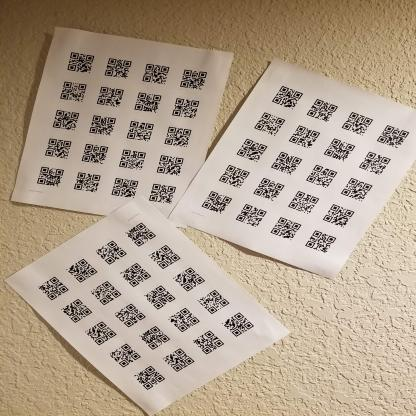qr: (65, 254, 103, 285), (196, 286, 236, 315), (124, 218, 161, 249), (89, 277, 127, 307), (189, 328, 228, 356), (377, 120, 412, 151), (233, 135, 271, 163), (172, 263, 210, 291), (322, 200, 356, 231), (96, 237, 131, 267), (119, 259, 156, 287), (269, 150, 304, 179), (221, 309, 256, 338), (134, 364, 169, 393), (148, 241, 184, 269), (337, 175, 374, 202), (107, 342, 144, 369), (288, 122, 322, 151), (114, 300, 148, 329), (253, 110, 288, 138), (60, 298, 95, 326), (167, 305, 202, 333), (38, 273, 74, 300), (305, 96, 338, 125), (341, 109, 375, 137), (305, 163, 340, 190), (138, 325, 174, 351), (306, 228, 339, 256), (144, 285, 177, 313), (270, 85, 304, 112), (287, 189, 322, 215), (360, 150, 392, 178), (163, 345, 195, 373), (84, 320, 121, 344), (216, 162, 251, 187), (251, 177, 287, 201), (201, 188, 233, 215), (270, 216, 304, 241), (72, 167, 102, 195), (235, 204, 267, 228), (163, 122, 193, 147), (323, 137, 355, 160), (111, 175, 139, 201), (172, 96, 201, 121), (81, 141, 109, 166), (60, 80, 87, 105), (51, 107, 79, 131), (150, 181, 178, 205), (154, 153, 184, 175), (44, 136, 71, 160), (67, 52, 95, 75), (179, 68, 207, 91), (97, 84, 123, 108), (119, 148, 146, 171), (104, 57, 132, 79), (142, 63, 170, 85), (127, 118, 153, 141), (134, 91, 161, 113), (90, 114, 117, 136), (37, 168, 63, 187)
